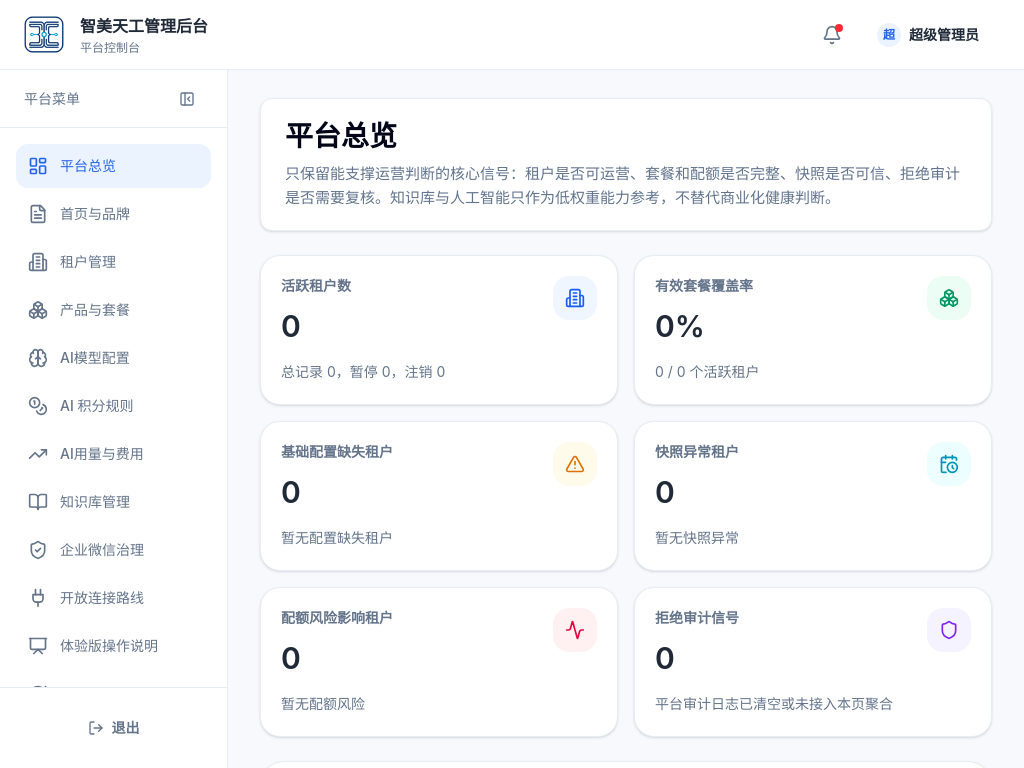
Test: 平台端 AI 模型与用量只读面板 › 平台导航可进入 AI用量与费用面板，且不触发 mutation 或高风险入口
Expected: the button "AI模型配置" is shown, [16,336,211,380]
Click the button "AI用量与费用" at [114, 454], box [16,432,211,476]
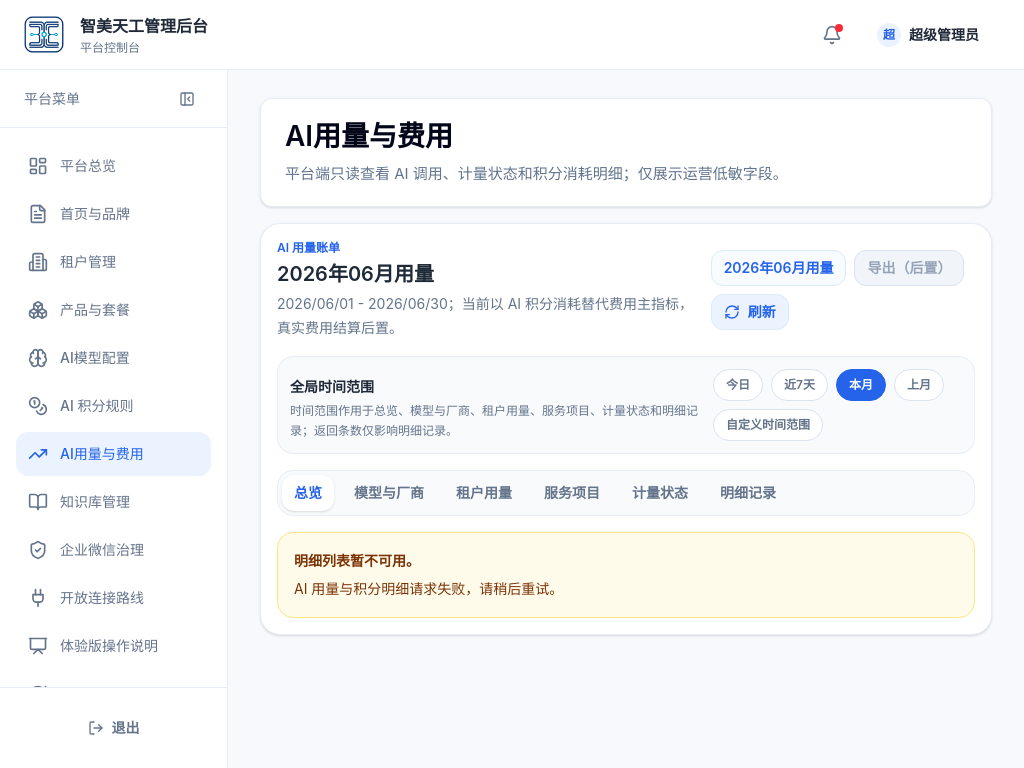
Result: the element "AI用量与费用" is shown at [260,98,992,207]
Result: the heading "2026年06月用量" is shown at [277,262,434,286]
Result: the text "明细列表暂不可用。" is shown at [294,552,420,569]
